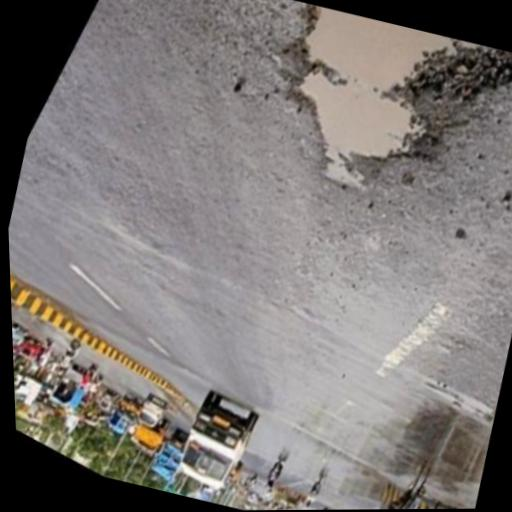pothole: (189, 80, 512, 223)
